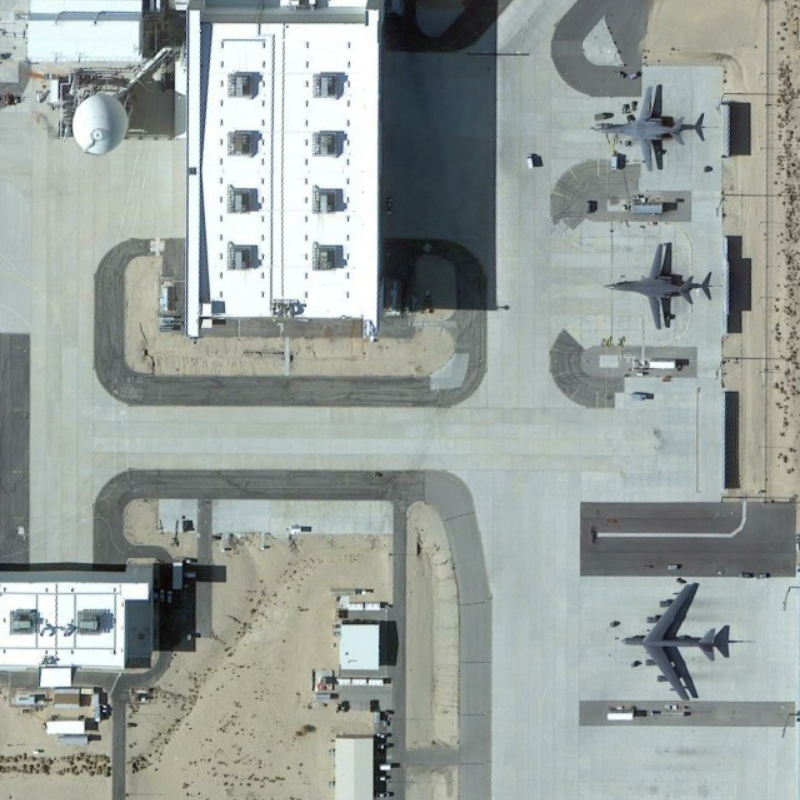A10: (598, 235, 704, 335), (589, 76, 692, 178)
A8: (610, 572, 726, 703)
